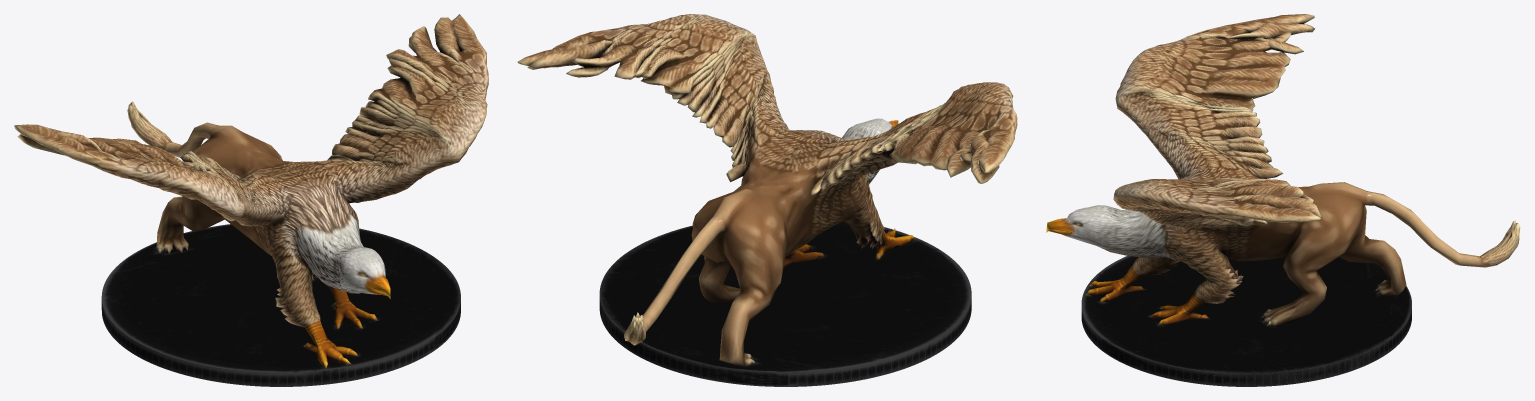
The model's file is MZ4250 - Griffon.glb.
3 views of the same model, side by side, from view 1: azimuth 30°, elevation 25°; view 2: azimuth 150°, elevation 25°; view 3: azimuth 270°, elevation 25° (orthographic). The views are drawn at different scales.
Parts seen in each view (by area): view 1: body_low.001, base_low.001; view 2: body_low.001, base_low.001; view 3: body_low.001, base_low.001.
Boxes of the visible parts, x1,y1,x2,y2 form: body_low.001: (14, 14, 488, 368); base_low.001: (101, 224, 460, 386); body_low.001: (517, 14, 1017, 366); base_low.001: (599, 221, 971, 386); body_low.001: (1046, 14, 1520, 325); base_low.001: (1081, 256, 1411, 386).
Size of the model in its own units: 2.37 by 1.11 by 2.35.
1 material, 1 textured.
